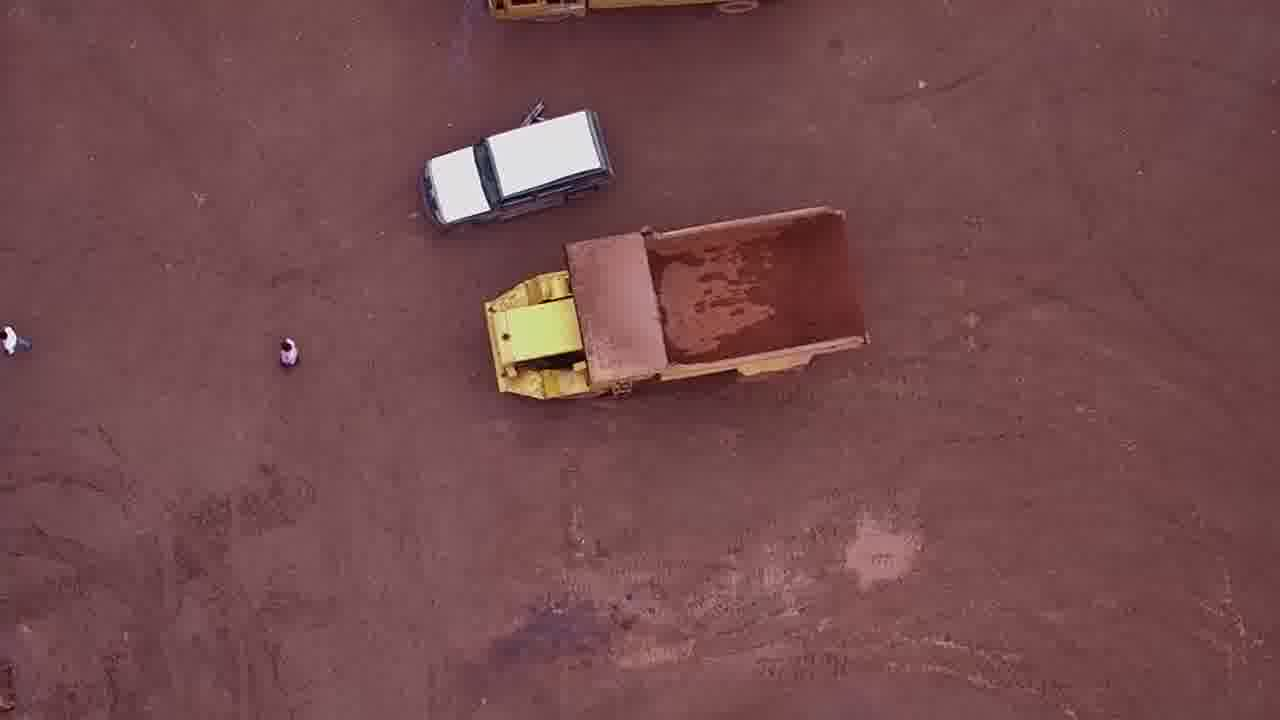HMV: (481, 200, 868, 416)
LMV: (416, 104, 611, 232)
Person: (1, 312, 36, 354), (275, 335, 303, 371)
